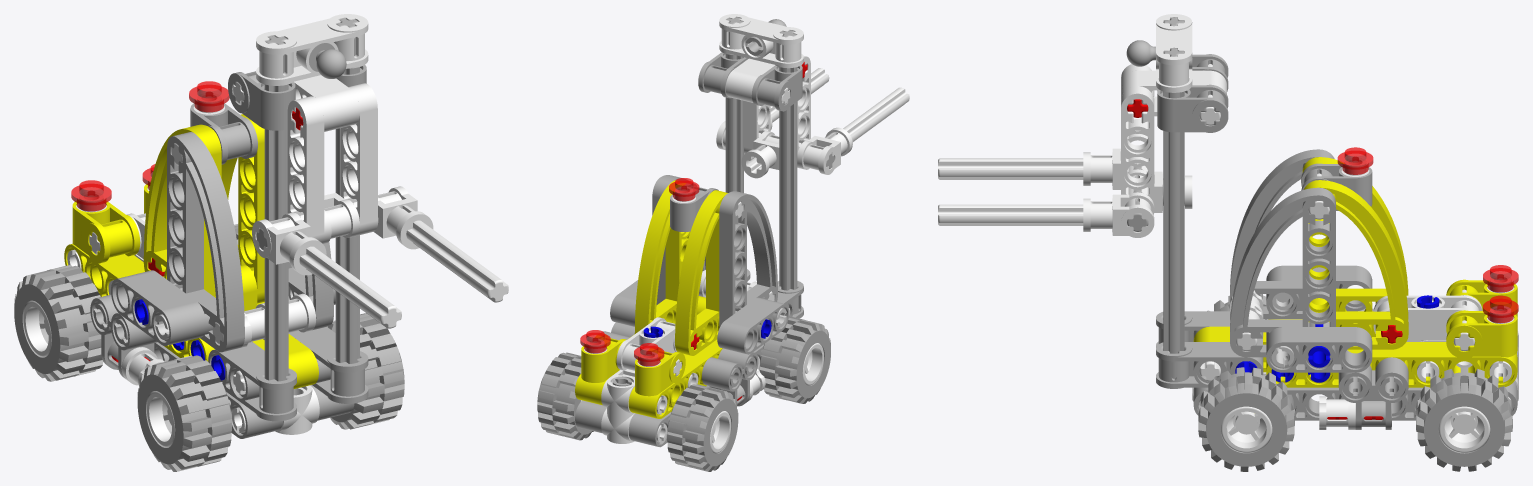
File: forklift.glb
3 renders of one model, left to right at view 1: azimuth 30°, elevation 25°; view 2: azimuth 150°, elevation 25°; view 3: azimuth 270°, elevation 25°, orthographic. The views are drawn at different scales.
Visible parts, largest first — view 1: Wheel - 4524358-4 (×3), Beam - 4128557-1, Axle - 373726-2, Crossblock - 4211621-1, Beam - 4211645-1, Crossblock - 4210851-1 (×2), Beam - 4153707-2, Beam - 4211645-2, Crossblock - 4173970-1, Beam - 4128554-1, Beam - 4128554-2, Axle - 373726-1 (+22 smaller); view 2: Wheel - 4524358-4 (×3), Beam - 4128557-1, Beam - 4128554-1, Crossblock - 4211621-1 (×2), Beam - 4128554-2, Axle - 373726-2, Crossblock - 4210851-1 (×2), Beam - 4153707-2, Axle - 373726-1, Crossblock - 4140430-1, Beam - 4495934-1, Bushing - 4211553-2 (+22 smaller); view 3: Wheel - 4524358-4 (×2), Beam - 4128557-2, Beam - 4128554-2, Axle - 373726-1, Crossblock - 4211621-1 (×2), Beam - 4128557-1, Beam - 4153707-1, Wheel - 4490127-3 (×2), Beam - 4495934-2, Axle - 4211639-1, Axle - 4211639-2, Crossblock - 4173970-2 (+22 smaller).
Boxes of the visible parts, <box> form: Wheel - 4524358-4 (×3): <box>14,265,404,471</box>; Beam - 4128557-1: <box>167,132,244,352</box>; Axle - 373726-2: <box>264,36,288,381</box>; Crossblock - 4211621-1: <box>256,14,368,85</box>; Beam - 4211645-1: <box>287,96,324,242</box>; Crossblock - 4210851-1 (×2): <box>190,71,295,164</box>; Beam - 4153707-2: <box>111,270,206,345</box>; Beam - 4211645-2: <box>341,83,377,235</box>; Crossblock - 4173970-1: <box>208,341,296,421</box>; Beam - 4128554-1: <box>143,124,221,297</box>; Beam - 4128554-2: <box>221,114,264,303</box>; Axle - 373726-1: <box>335,18,359,363</box>; Wheel - 4524358-4 (×3): <box>537,316,830,471</box>; Beam - 4128557-1: <box>719,191,777,327</box>; Beam - 4128554-1: <box>675,190,727,355</box>; Crossblock - 4211621-1 (×2): <box>616,14,803,370</box>; Beam - 4128554-2: <box>634,180,690,333</box>; Axle - 373726-2: <box>779,30,797,290</box>; Crossblock - 4210851-1 (×2): <box>670,65,802,231</box>; Beam - 4153707-2: <box>717,297,789,354</box>; Axle - 373726-1: <box>725,17,743,192</box>; Crossblock - 4140430-1: <box>702,348,758,406</box>; Beam - 4495934-1: <box>628,339,722,418</box>; Bushing - 4211553-2: <box>797,127,852,174</box>; Wheel - 4524358-4 (×2): <box>1198,367,1512,471</box>; Beam - 4128557-2: <box>1230,187,1335,357</box>; Beam - 4128554-2: <box>1304,180,1408,349</box>; Axle - 373726-1: <box>1163,48,1184,378</box>; Crossblock - 4211621-1 (×2): <box>1156,14,1482,341</box>; Beam - 4128557-1: <box>1230,149,1334,318</box>; Beam - 4153707-1: <box>1266,327,1372,372</box>; Wheel - 4490127-3 (×2): <box>1221,406,1490,452</box>; Beam - 4495934-2: <box>1266,342,1517,387</box>; Axle - 4211639-1: <box>938,158,1083,179</box>; Axle - 4211639-2: <box>938,204,1083,225</box>; Crossblock - 4173970-2: <box>1156,342,1263,388</box>.
Bounding box in the file's own units: 0.0501 × 0.0954 × 0.129.
